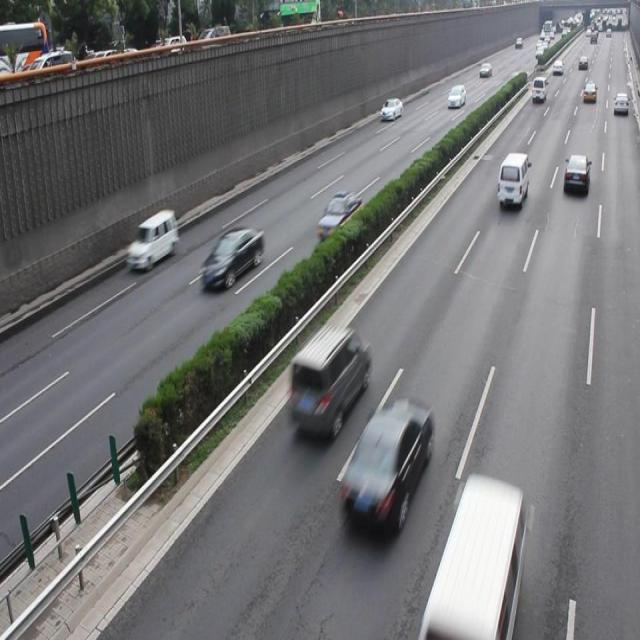car: (337, 394, 429, 532), (286, 324, 366, 439), (199, 224, 263, 289), (126, 209, 179, 270), (317, 190, 362, 238), (562, 153, 588, 195)
truck: (431, 481, 521, 640), (496, 151, 528, 207)
